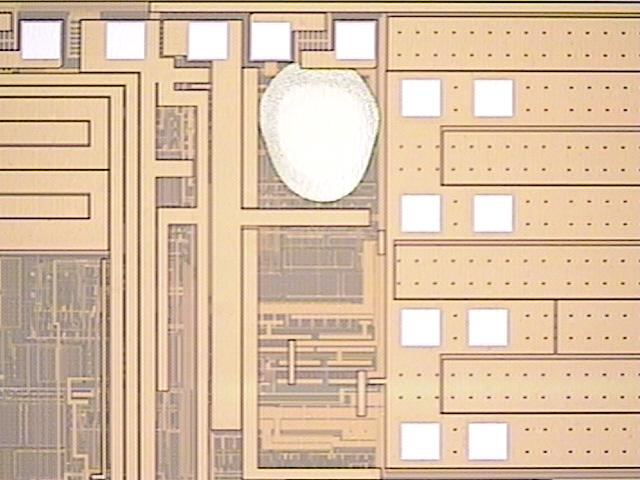BLOCK ETCH: (258, 53, 385, 205)
